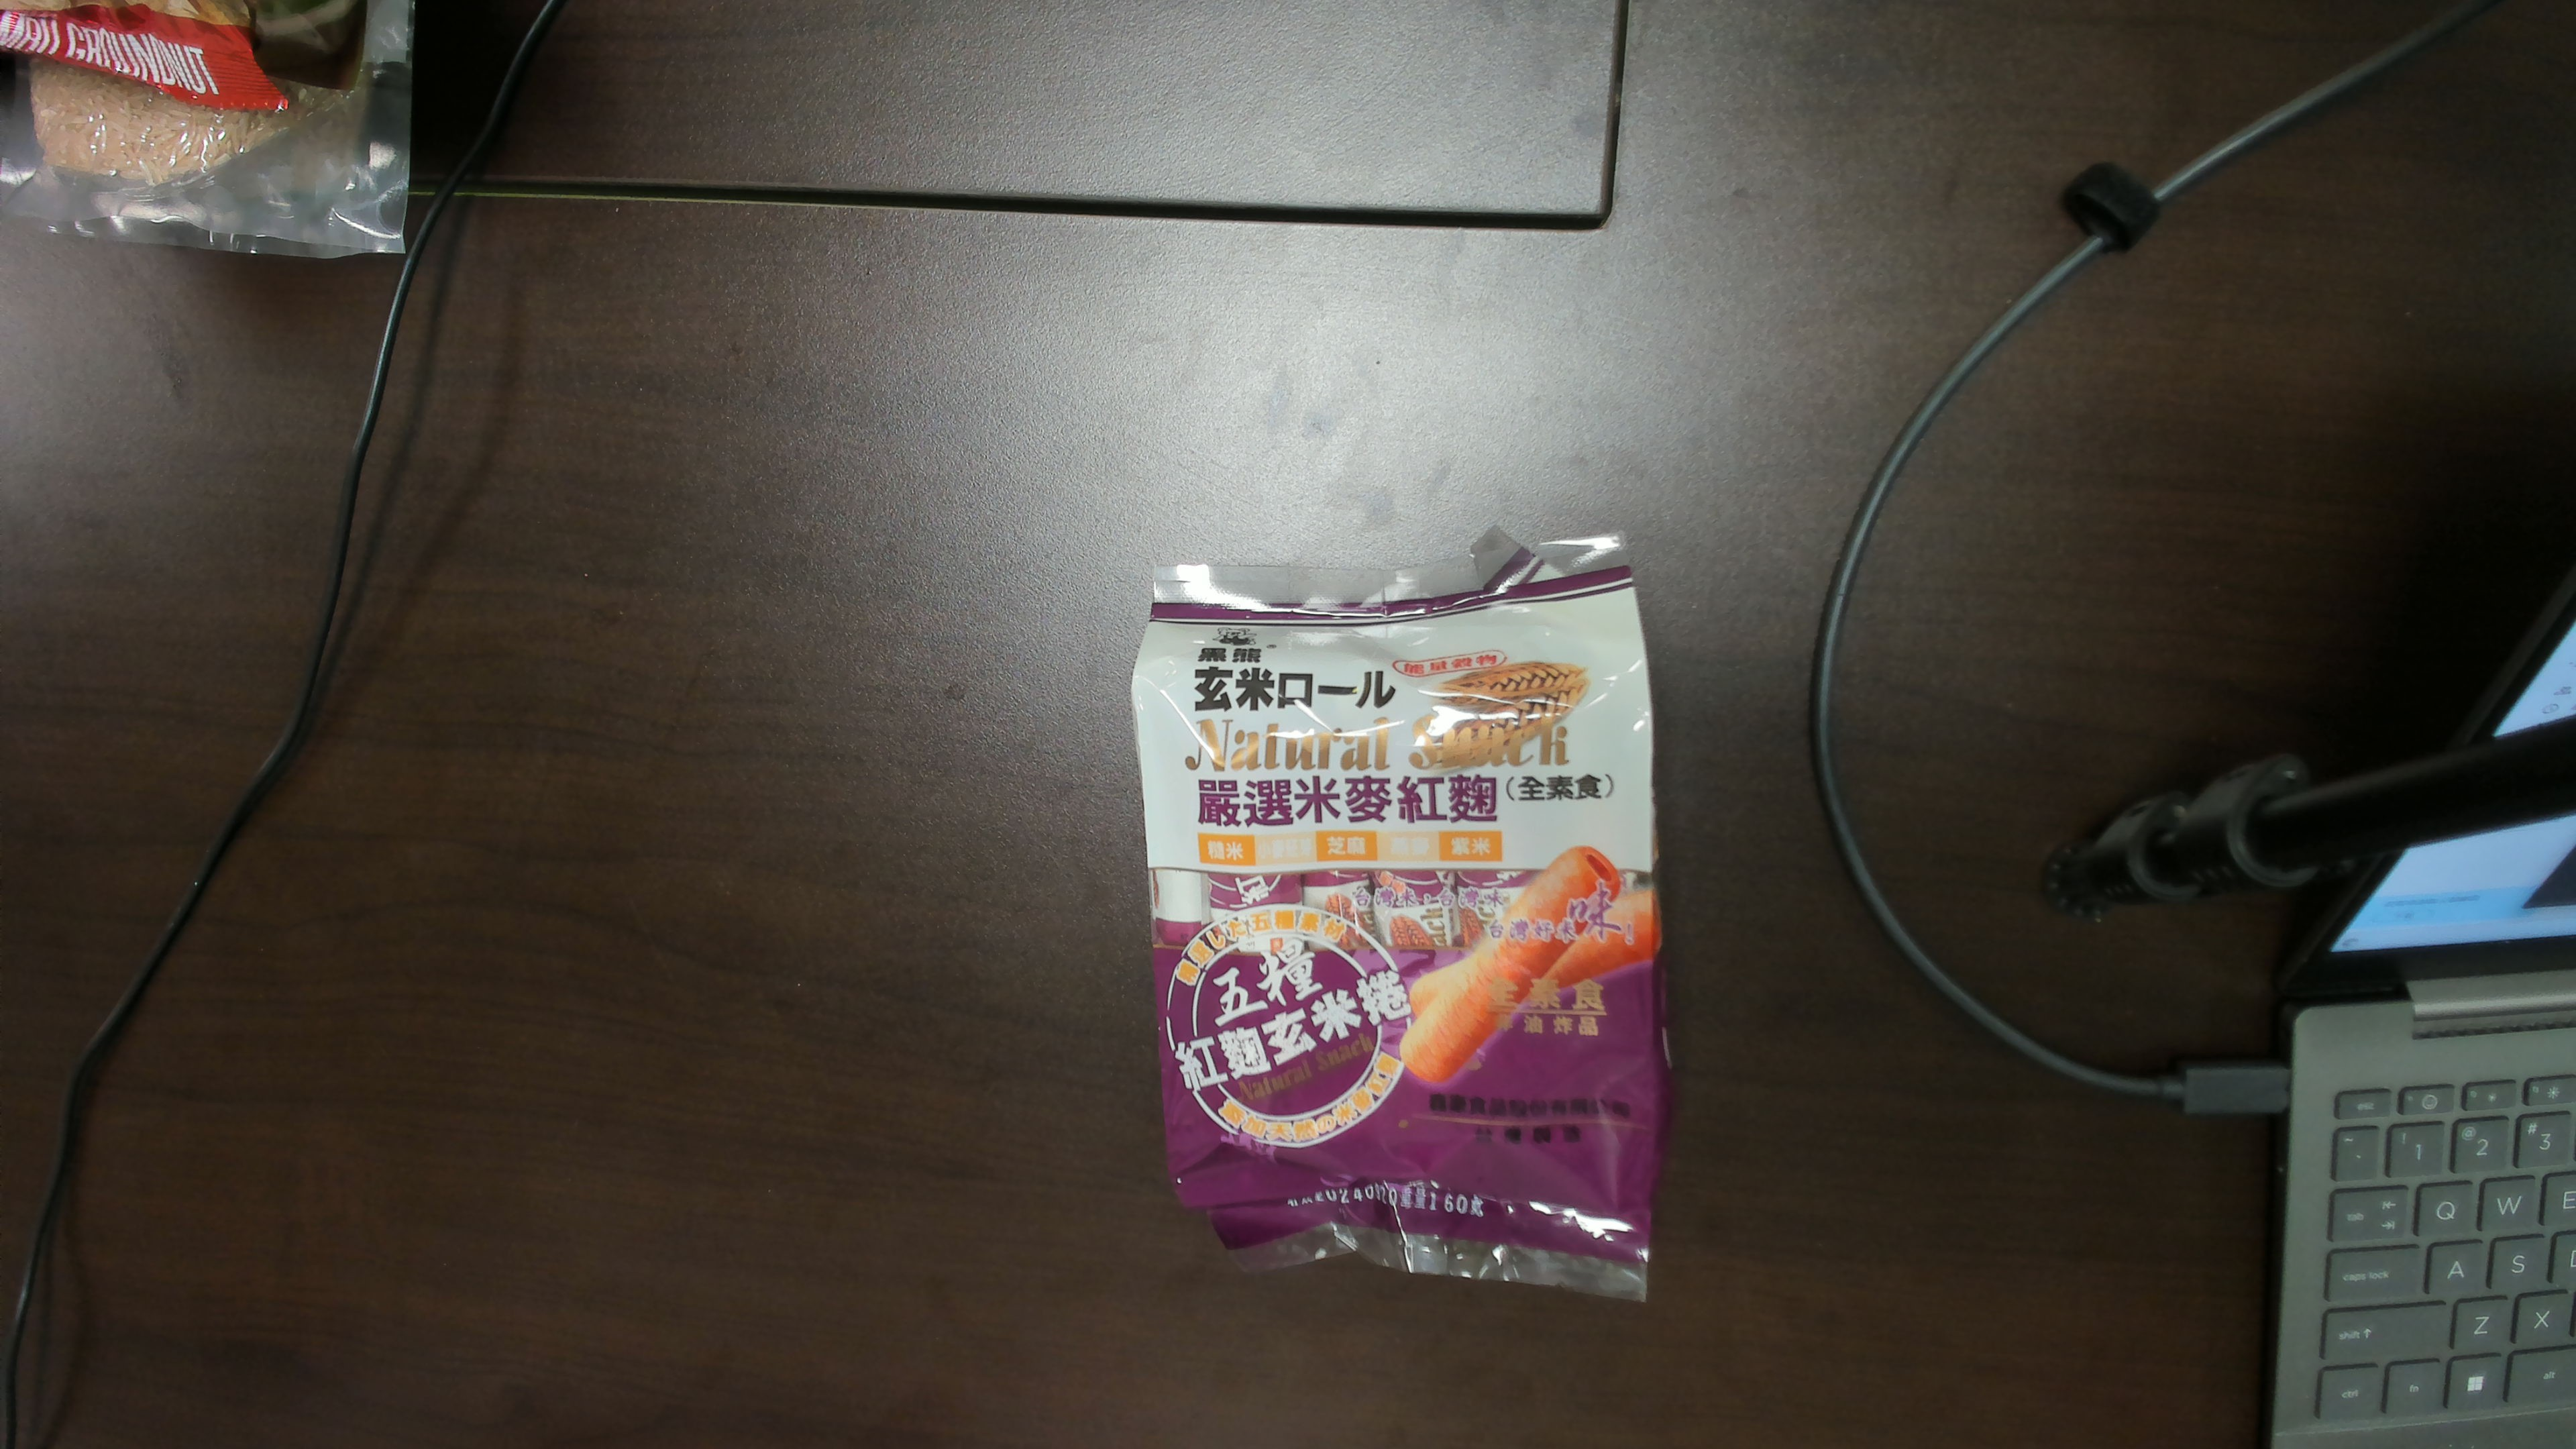BiscuitsCrackersCookies_100-199g_NonHalal_NonHealthy: (1175, 644, 1644, 1143)
